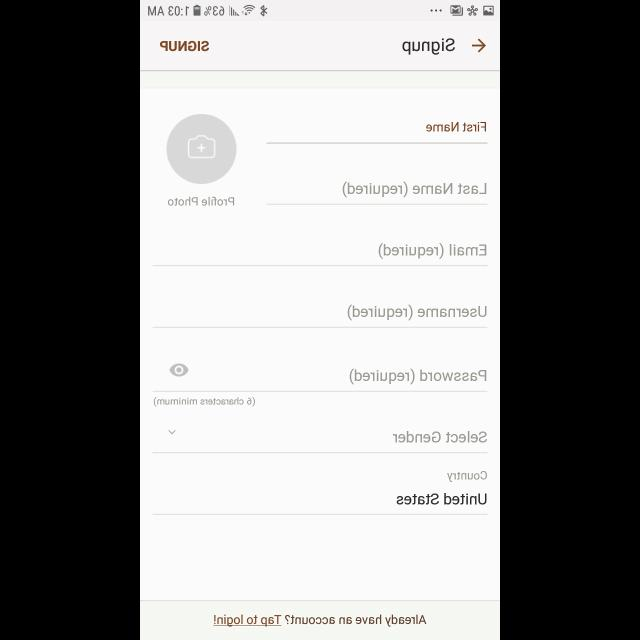icon: (166, 114, 236, 184), (170, 364, 188, 376), (471, 39, 485, 53), (168, 430, 176, 434)
input: (152, 363, 488, 393), (152, 428, 488, 454), (152, 304, 488, 328), (152, 243, 488, 267), (152, 493, 488, 515), (265, 181, 487, 205), (266, 122, 488, 144)
text: (342, 182, 486, 198), (348, 305, 487, 321), (349, 368, 487, 384), (378, 242, 487, 260), (392, 431, 486, 443), (396, 493, 486, 505), (153, 397, 255, 407), (402, 38, 454, 56), (168, 197, 235, 207), (426, 122, 486, 132), (160, 40, 208, 51), (447, 470, 487, 482)
textbutton: (140, 600, 500, 640)
uppertaskbar: (140, 1, 500, 22)
